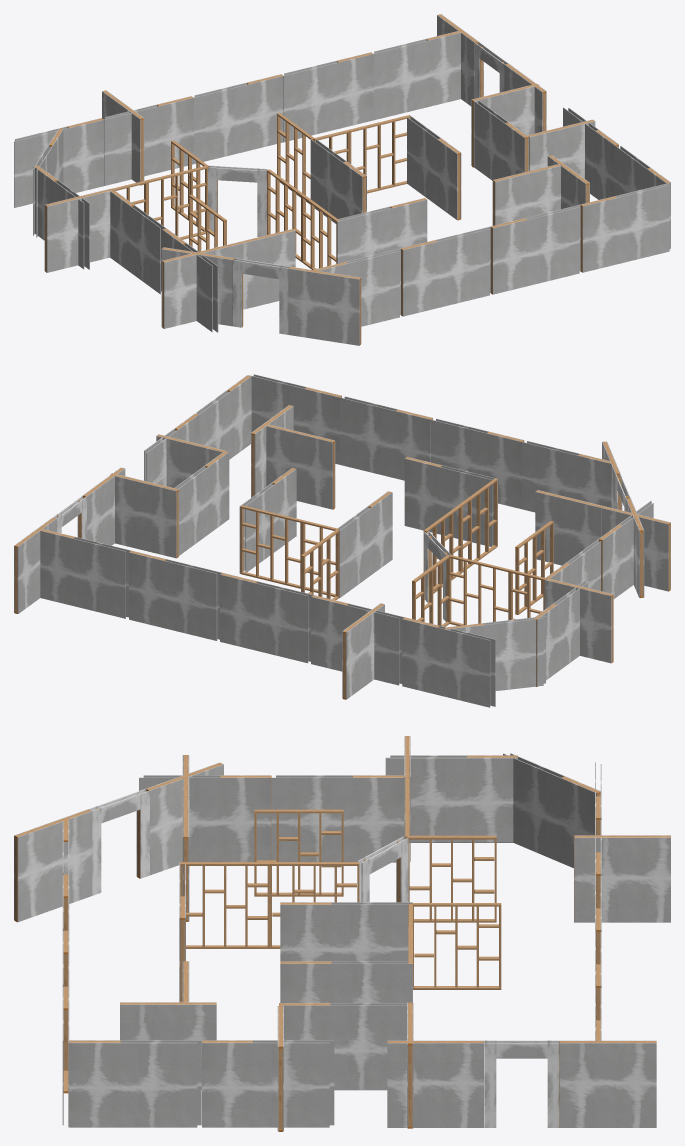
File: Construct_Level.fbx
3 views of the same model, one above another, from view 1: azimuth 30°, elevation 25°; view 2: azimuth 150°, elevation 25°; view 3: azimuth 270°, elevation 25° (orthographic). The views are drawn at different scales.
Visible parts, largest first — view 1: Wall_End14, Wall_End13, Wall_End11, Wall_End18, Wall_End19, Wall_End20, Wall_End21, Wall_DoubleEnd13, Wall_End22, Wall_End8, Wall_DoubleEnd11, Wall_End7 (+29 smaller); view 2: Wall_End22, Wall_End19, Wall_End20, Wall_End18, Wall_End14, Wall_End8, Wall_End11, Wall_End21, Wall_End12, Wall_DoubleEnd7, Wall_DoubleEnd6, Wall_End13 (+29 smaller); view 3: Wall_End15, Wall_End16, Wall_End9, Wall_End24, Wall_DoubleEnd15, Wall_DoubleEnd17, Wall_DoubleEnd14, Wall_End, Wall_End10, Wall_End17, Wall_DoubleEnd13, Wall_End23 (+16 smaller).
Boxes of the visible parts, x1,y1,x2,y2 form: Wall_End14: (490,204,580,294); Wall_End13: (580,182,670,272); Wall_End11: (401,226,490,316); Wall_End18: (373,31,461,120); Wall_End19: (283,52,373,142); Wall_End20: (194,74,283,163); Wall_End21: (104,96,193,185); Wall_DoubleEnd13: (288,266,361,345); Wall_End22: (14,118,103,207); Wall_End8: (337,198,427,263); Wall_DoubleEnd11: (44,188,112,272); Wall_End7: (407,115,461,220); Wall_End22: (402,617,495,707); Wall_End19: (129,550,221,640); Wall_End20: (220,573,312,663); Wall_End18: (38,528,130,618); Wall_End14: (339,396,432,480); Wall_End8: (404,457,497,546); Wall_End11: (430,418,524,508); Wall_End21: (311,595,404,685); Wall_End12: (521,441,614,512); Wall_DoubleEnd7: (110,473,178,558); Wall_DoubleEnd6: (266,424,335,509); Wall_End13: (249,374,341,464); Wall_End15: (69,1040,201,1127); Wall_End16: (202,1040,334,1127); Wall_End9: (271,775,403,862); Wall_End24: (385,755,517,842); Wall_DoubleEnd15: (559,1040,656,1127); Wall_DoubleEnd17: (574,835,670,922); Wall_DoubleEnd14: (387,1040,483,1127); Wall_End: (280,902,412,961); Wall_End10: (139,775,271,861); Wall_End17: (279,1003,407,1090); Wall_DoubleEnd13: (14,809,92,922); Wall_End23: (503,753,600,868).
Bounding box in the file's own units: 32.84 × 4.2 × 29.36.
